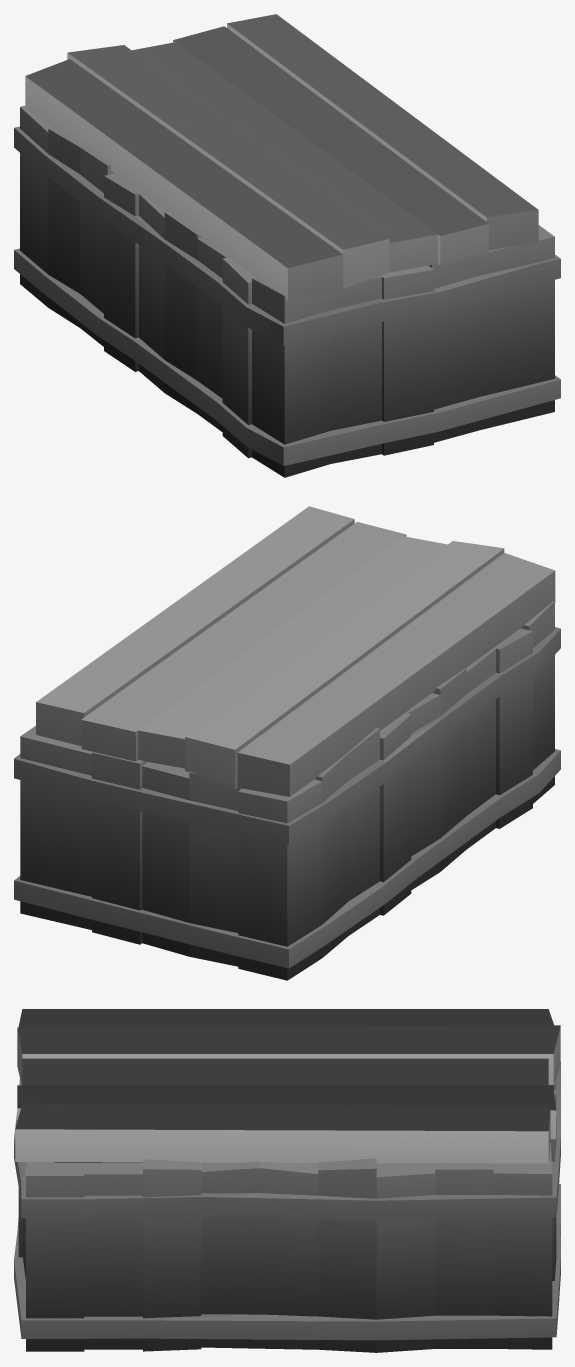
Rendered from StorageChestClsoed_MESH_01.fbx.
The picture shows the model from 3 angles, top to bottom: view 1: azimuth 30°, elevation 25°; view 2: azimuth 150°, elevation 25°; view 3: azimuth 270°, elevation 25°; orthographic projection.
Parts seen in each view (by area): view 1: StorageChestOpen_MESH_02; view 2: StorageChestOpen_MESH_02; view 3: StorageChestOpen_MESH_02.
Boxes of the visible parts, box(x1,y1,x2,y2) form: StorageChestOpen_MESH_02: box(14, 14, 560, 477); StorageChestOpen_MESH_02: box(14, 506, 560, 980); StorageChestOpen_MESH_02: box(14, 1009, 560, 1352).
Size of the model in its own units: 203 by 146 by 333.
